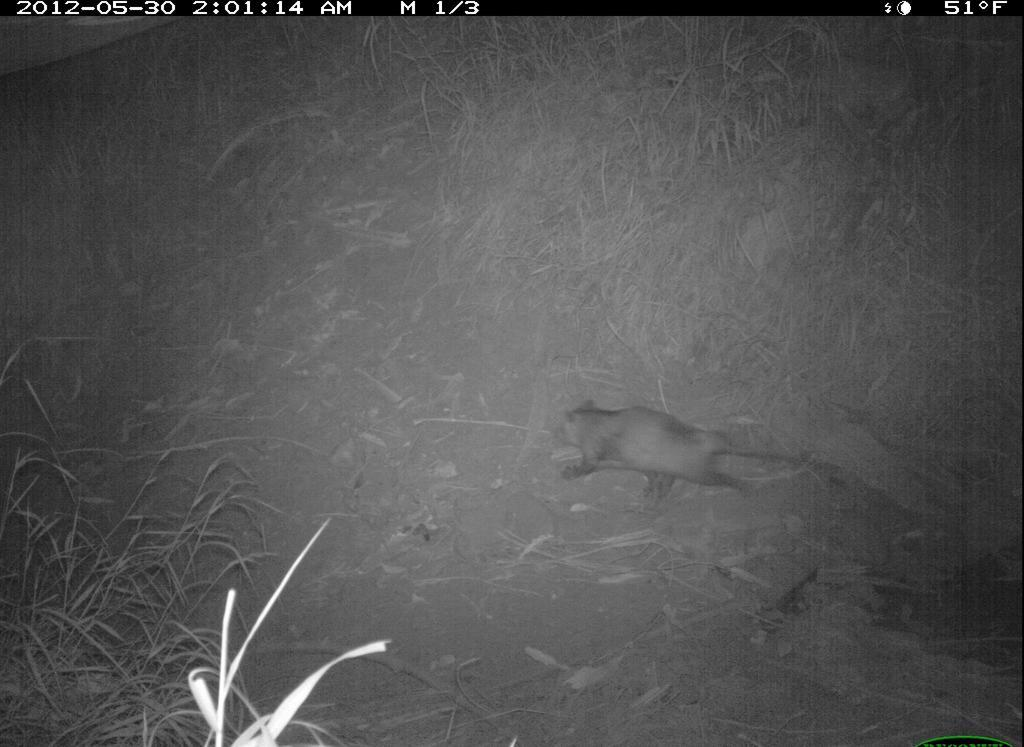opossum: (538, 393, 856, 537)
